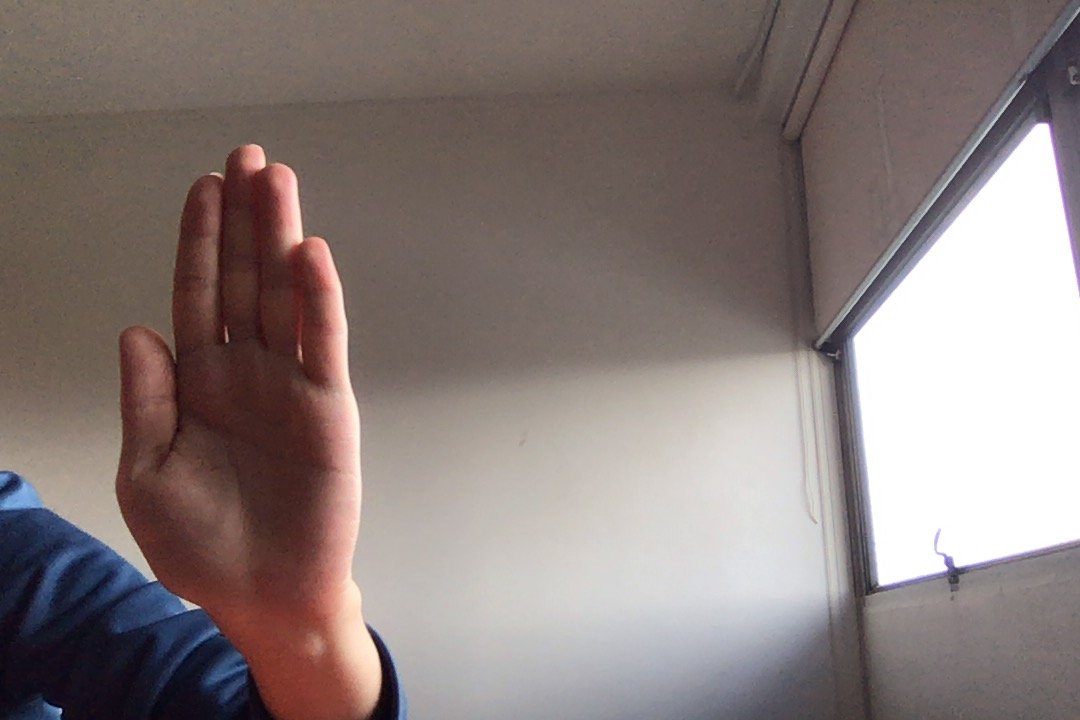palmhand: (111, 137, 369, 614)
